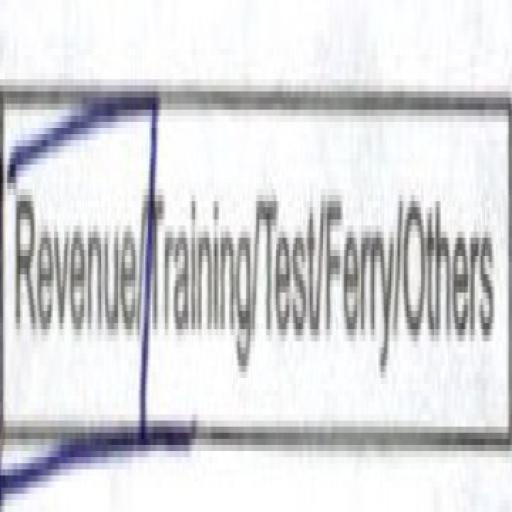check: (0, 12, 142, 506)
